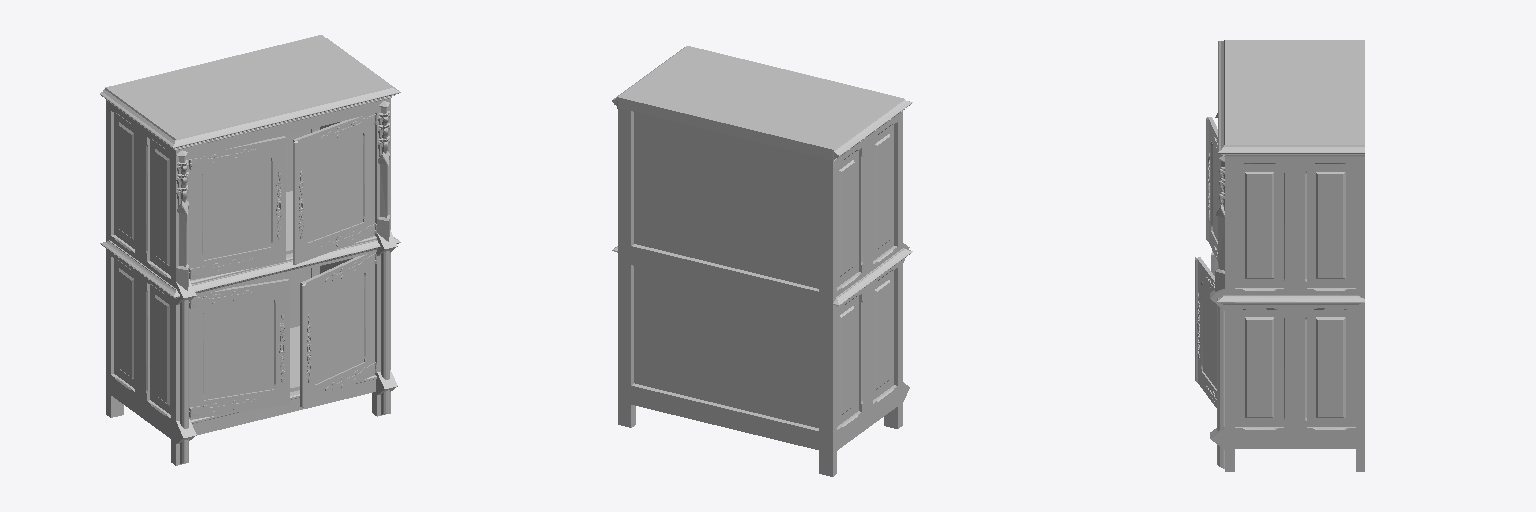
Rendered from cabinet.obj.
3 renders of one model, left to right at view 1: azimuth 30°, elevation 25°; view 2: azimuth 150°, elevation 25°; view 3: azimuth 270°, elevation 25°, orthographic.
Parts seen in each view (by area): view 1: GothicCabinet_01_cabinet_Plane.004, GothicCabinet_01_door3_Plane.007, GothicCabinet_01_door1_Plane.000, GothicCabinet_01_door2_Plane.001, GothicCabinet_01_door4_Plane.008; view 2: GothicCabinet_01_cabinet_Plane.004; view 3: GothicCabinet_01_cabinet_Plane.004, GothicCabinet_01_door4_Plane.008, GothicCabinet_01_door2_Plane.001.
Part boxes in pixels (x1,y1,x2,y2): GothicCabinet_01_cabinet_Plane.004: (100,35,400,465); GothicCabinet_01_door3_Plane.007: (189,279,289,419); GothicCabinet_01_door1_Plane.000: (189,136,285,280); GothicCabinet_01_door2_Plane.001: (293,113,376,264); GothicCabinet_01_door4_Plane.008: (300,253,376,407); GothicCabinet_01_cabinet_Plane.004: (612,46,912,476); GothicCabinet_01_cabinet_Plane.004: (1210,40,1364,471); GothicCabinet_01_door4_Plane.008: (1195,257,1216,407); GothicCabinet_01_door2_Plane.001: (1206,117,1223,260).
Bounding box in the file's own units: 6.9 × 9.47 × 4.48.